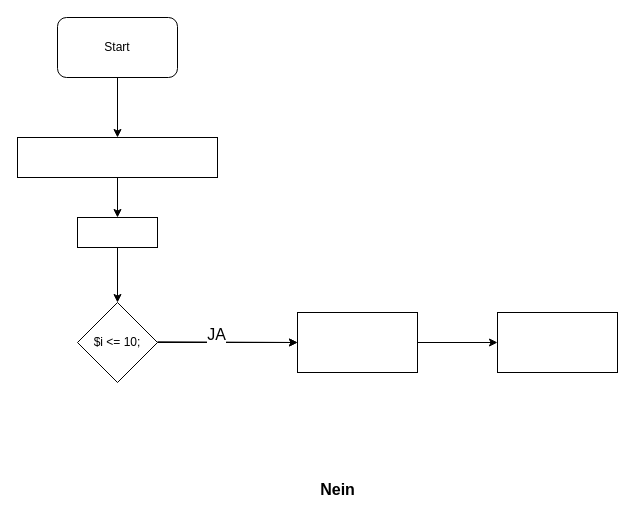
Image size: 635x525. Some labels were removed from this diagram. Each missing label, with the centre of its shape:
$i = 1;: point (117, 232)
<table border= \" 2px \" > ;: point (117, 157)
